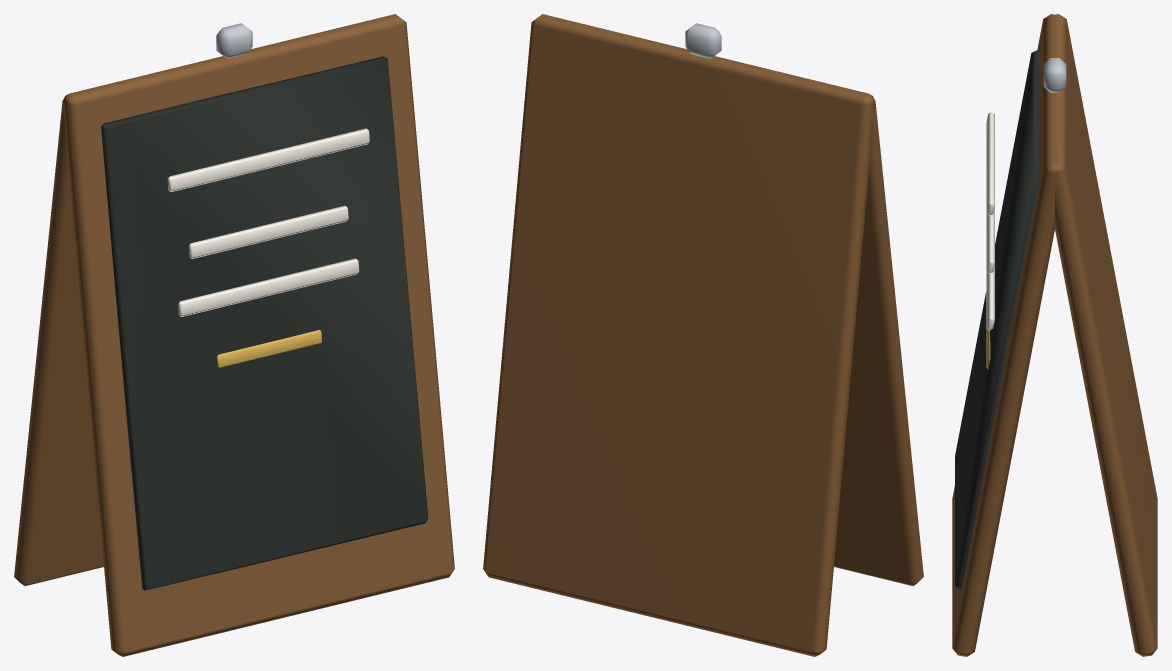
File: chalkboard_sign.glb
3 renders of one model, left to right at view 1: azimuth 30°, elevation 25°; view 2: azimuth 150°, elevation 25°; view 3: azimuth 270°, elevation 25°, orthographic. The views are drawn at different scales.
Parts seen in each view (by area): view 1: chalkboard_sign; view 2: chalkboard_sign; view 3: chalkboard_sign.
Part boxes in pixels (left/top/right/bottom): chalkboard_sign: left=14, top=14, right=454, bottom=656; chalkboard_sign: left=483, top=14, right=923, bottom=656; chalkboard_sign: left=952, top=14, right=1157, bottom=656.
Size of the model in its own units: 0.64 by 0.9994 by 0.3578.
